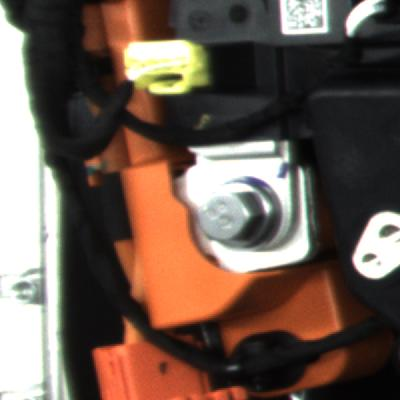nut_b: (190, 187, 284, 266)
